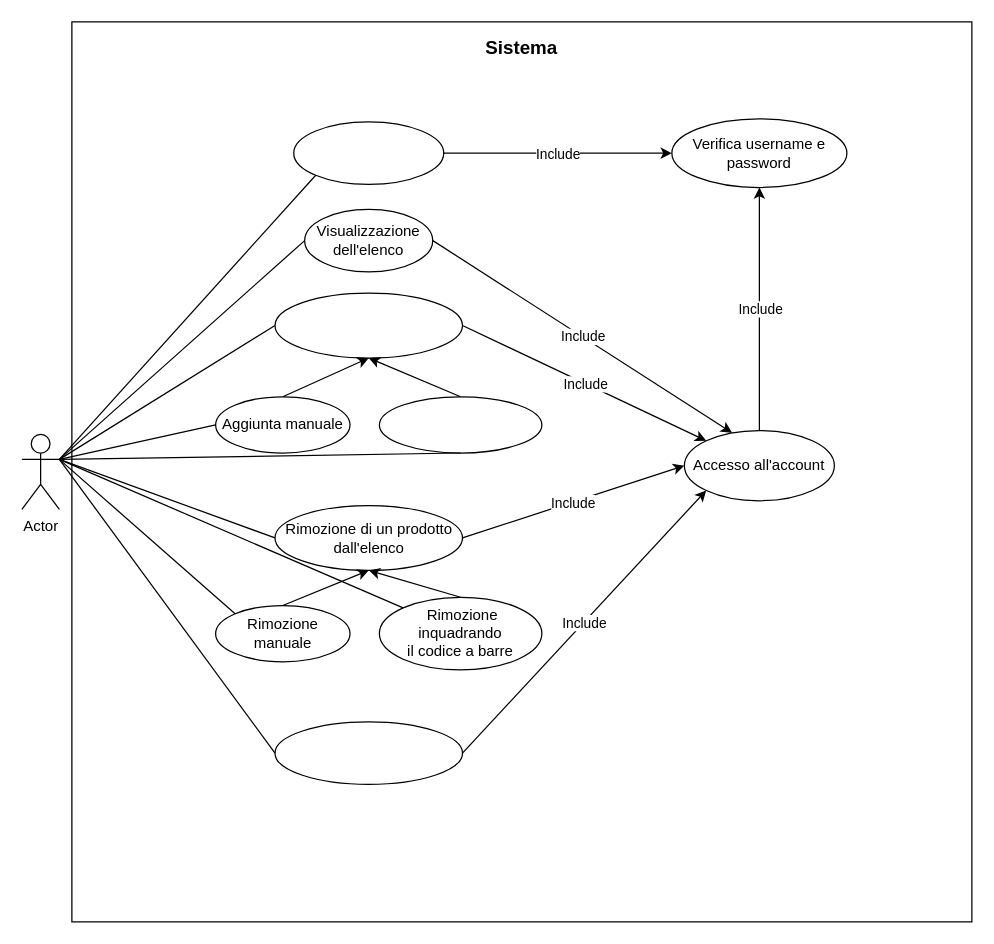
This 994x944 diagram has some shape labels left out. Each missing label, with the centre of its shape:
"Aggiunta di un prodotto all'elenco" goes at point (368, 325).
"Aggiunta inquadrando il codice a barre" goes at point (460, 424).
"Creazione di un account" goes at point (368, 152).
"Ricerca di un prodotto nell'elenco" goes at point (368, 752).
